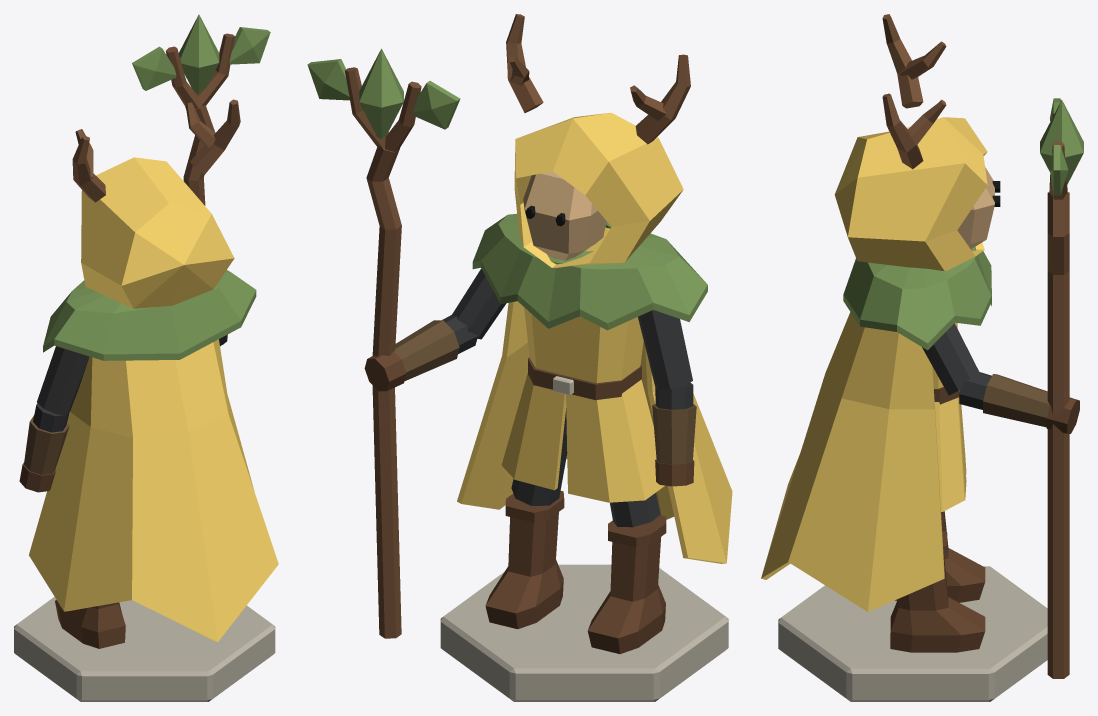
The model's file is human_druid_t6.glb.
3 views of the same model, side by side, from view 1: azimuth 30°, elevation 25°; view 2: azimuth 150°, elevation 25°; view 3: azimuth 270°, elevation 25° (orthographic). The views are drawn at different scales.
Visible parts, largest first — view 1: Druid_Long_Three_Leaf_Tip_Cape, Foundation_Hexagonal_Stone, Pointed_Open_Hood_Shell, One_Connected_Green_Leaf_Mantle, Boot_-1, left_upper_sleeve, Druid_One_Green_Seed_Stone, left_bracer, Right_Two_End_Antler_Main, Druid_Left_Broad_Staff_Leaf, Druid_Right_Broad_Staff_Leaf, Left_Two_End_Antler_Main (+6 smaller); view 2: Foundation_Hexagonal_Stone, Pointed_Open_Hood_Shell, One_Connected_Green_Leaf_Mantle, Druid_Long_Three_Leaf_Tip_Cape, Druid_One_Crooked_Oak_Staff_Shaft, Continuous_Split_Tunic_Skirt, Continuous_Tunic_Bodice, Boot_1, Boot_-1, Angular_Face, Split_Tunic_Front_1, Split_Tunic_Front_-1 (+19 smaller); view 3: Druid_Long_Three_Leaf_Tip_Cape, Foundation_Hexagonal_Stone, Pointed_Open_Hood_Shell, Druid_One_Crooked_Oak_Staff_Shaft, One_Connected_Green_Leaf_Mantle, Boot_1, Continuous_Split_Tunic_Skirt, right_bracer, right_upper_sleeve, Boot_-1, Druid_One_Green_Seed_Stone, Left_Two_End_Antler_Main (+7 smaller).
Boxes of the visible parts, x1,y1,x2,y2 form: Druid_Long_Three_Leaf_Tip_Cape: (29, 339, 278, 642); Foundation_Hexagonal_Stone: (14, 597, 275, 701); Pointed_Open_Hood_Shell: (81, 157, 234, 308); One_Connected_Green_Leaf_Mantle: (43, 270, 256, 360); Boot_-1: (55, 600, 125, 648); left_upper_sleeve: (37, 346, 89, 415); Druid_One_Green_Seed_Stone: (179, 14, 219, 93); left_bracer: (24, 415, 69, 474); Right_Two_End_Antler_Main: (190, 99, 240, 174); Druid_Left_Broad_Staff_Leaf: (132, 46, 176, 90); Druid_Right_Broad_Staff_Leaf: (229, 27, 270, 64); Left_Two_End_Antler_Main: (72, 136, 105, 202); Foundation_Hexagonal_Stone: (440, 564, 728, 701); Pointed_Open_Hood_Shell: (514, 112, 683, 268); One_Connected_Green_Leaf_Mantle: (472, 213, 707, 330); Druid_Long_Three_Leaf_Tip_Cape: (457, 301, 732, 563); Druid_One_Crooked_Oak_Staff_Shaft: (366, 146, 401, 638); Continuous_Split_Tunic_Skirt: (501, 373, 664, 502); Continuous_Tunic_Bodice: (524, 307, 643, 383); Boot_1: (485, 512, 563, 629); Boot_-1: (587, 537, 665, 653); Angular_Face: (523, 171, 606, 260); Split_Tunic_Front_1: (514, 385, 566, 490); Split_Tunic_Front_-1: (566, 394, 609, 502); Druid_Long_Three_Leaf_Tip_Cape: (761, 312, 944, 611); Foundation_Hexagonal_Stone: (778, 566, 1047, 701); Pointed_Open_Hood_Shell: (834, 117, 987, 271); Druid_One_Crooked_Oak_Staff_Shaft: (1047, 192, 1069, 678); One_Connected_Green_Leaf_Mantle: (843, 246, 991, 350); Boot_1: (890, 556, 985, 652); Continuous_Split_Tunic_Skirt: (934, 398, 964, 511); right_bracer: (983, 374, 1049, 427); right_upper_sleeve: (922, 323, 979, 395); Boot_-1: (895, 511, 985, 602); Druid_One_Green_Seed_Stone: (1040, 100, 1083, 184); Left_Two_End_Antler_Main: (882, 14, 923, 108).
Bounding box in the file's own units: 1.21 × 2.21 × 1.05.
